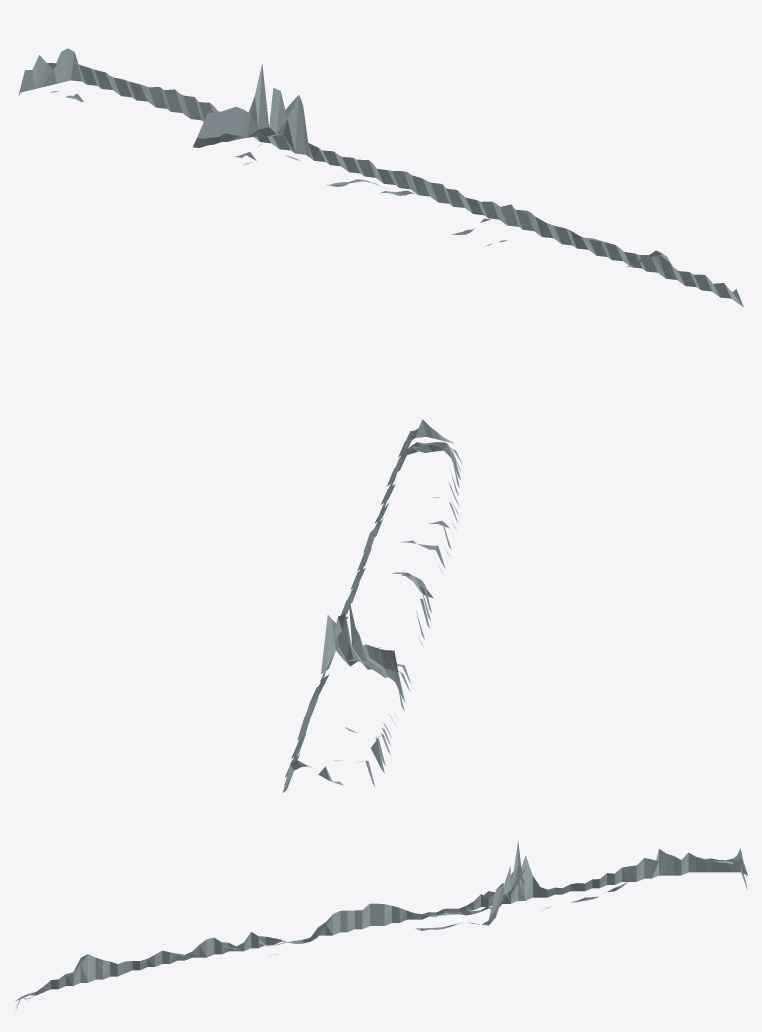
3 renders of one model, top to bottom at view 1: azimuth 30°, elevation 25°; view 2: azimuth 150°, elevation 25°; view 3: azimuth 270°, elevation 25°, orthographic. The views are drawn at different scales.
Parts seen in each view (by area): view 1: Renderer Node; view 2: Renderer Node; view 3: Renderer Node.
Boxes of the visible parts, x1,y1,x2,y2 form: Renderer Node: [18, 48, 743, 307]; Renderer Node: [283, 419, 462, 792]; Renderer Node: [15, 840, 747, 1010].
Bounding box in the file's own units: 333 × 91.81 × 711.
